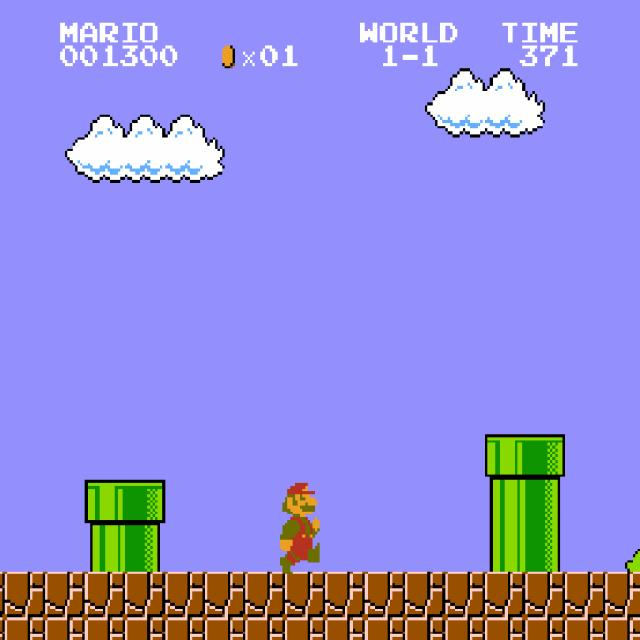big_mario: (277, 480, 320, 574)
pipe: (485, 480, 525, 526), (525, 480, 565, 526), (85, 526, 125, 571), (125, 526, 165, 571), (485, 526, 525, 571), (525, 526, 565, 571)
pipe_head: (85, 480, 125, 526), (125, 480, 165, 526), (485, 434, 525, 480), (525, 434, 565, 480)
undestructible_block: (5, 572, 45, 617), (45, 572, 85, 617), (85, 572, 125, 617), (125, 572, 165, 617), (165, 572, 205, 617), (205, 572, 245, 617), (245, 572, 285, 617), (285, 572, 325, 617), (325, 572, 365, 617), (365, 572, 405, 617), (405, 572, 445, 617), (445, 572, 485, 617), (485, 572, 525, 617), (525, 572, 565, 617), (565, 572, 605, 617), (605, 572, 640, 617), (5, 617, 45, 640), (45, 617, 85, 640), (85, 617, 125, 640), (125, 617, 165, 640), (165, 617, 205, 640), (205, 617, 245, 640), (245, 617, 285, 640), (285, 617, 325, 640), (325, 617, 365, 640), (365, 617, 405, 640), (405, 617, 445, 640), (445, 617, 485, 640), (485, 617, 525, 640), (525, 617, 565, 640), (565, 617, 605, 640), (605, 617, 640, 640), (0, 572, 5, 617), (0, 617, 5, 640)
